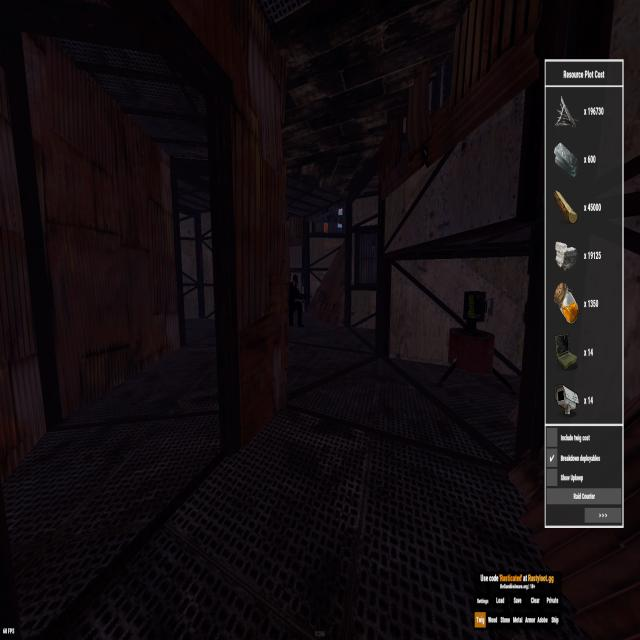Player: (289, 272, 305, 330)
